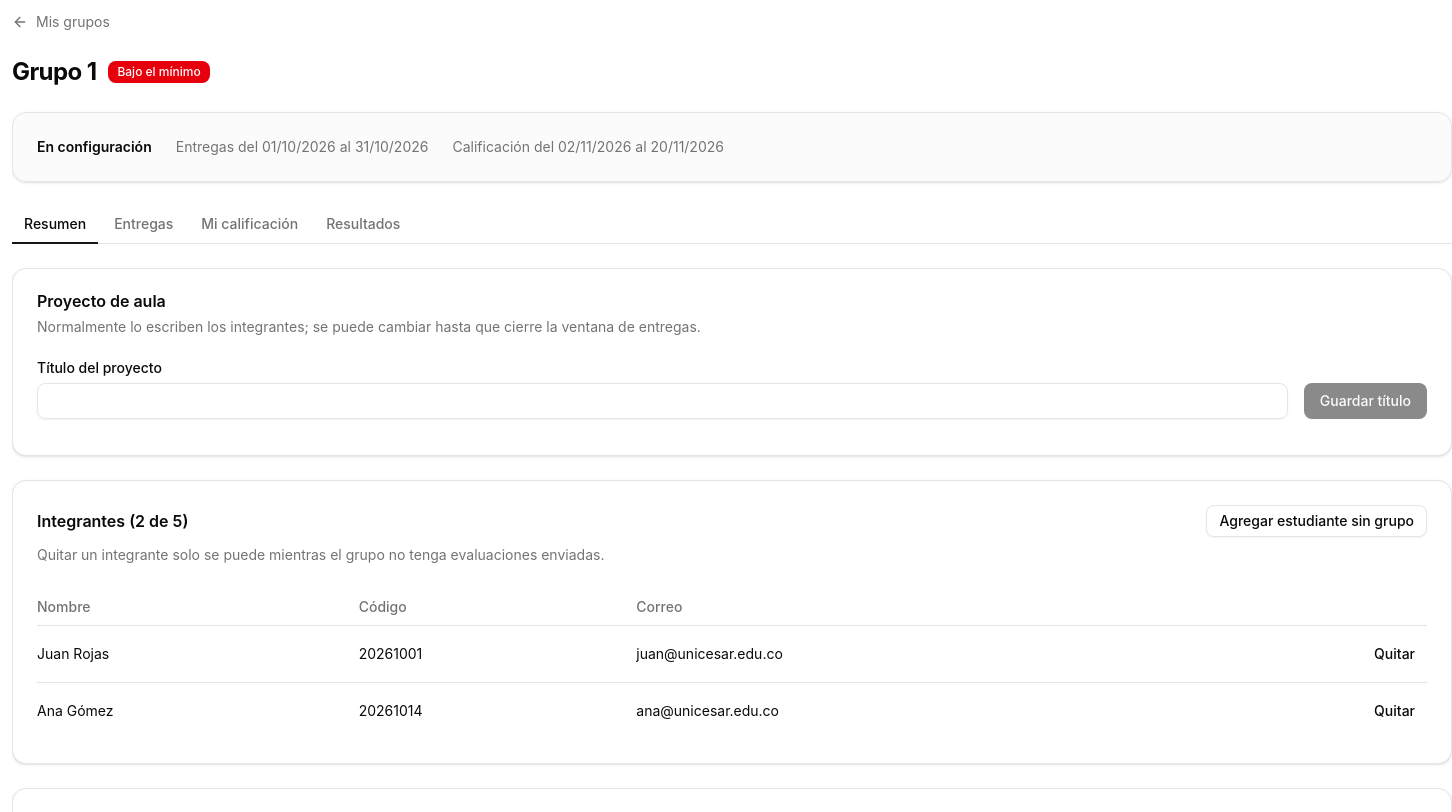
Test: GroupDetailPage › removes a member after confirming
Step 1. Click the button with aria-label "Quitar a Juan Rojas" → coordinates (1395, 654), box x1=1362 y1=638 x2=1427 y2=670
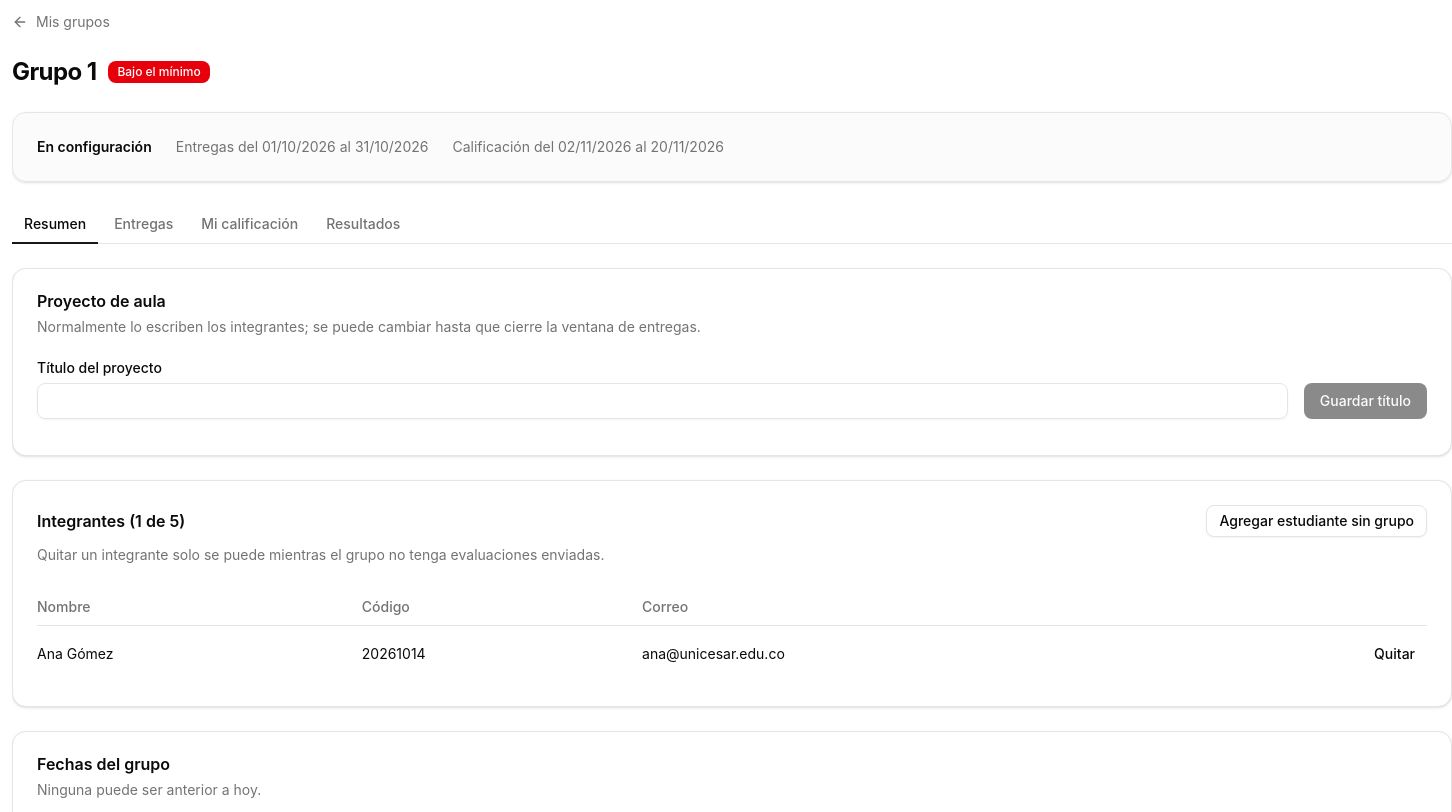
Result: the text "Integrantes (1 de 5)" is shown at x1=37 y1=513 x2=185 y2=529
Result: the text "Juan Rojas" is gone
